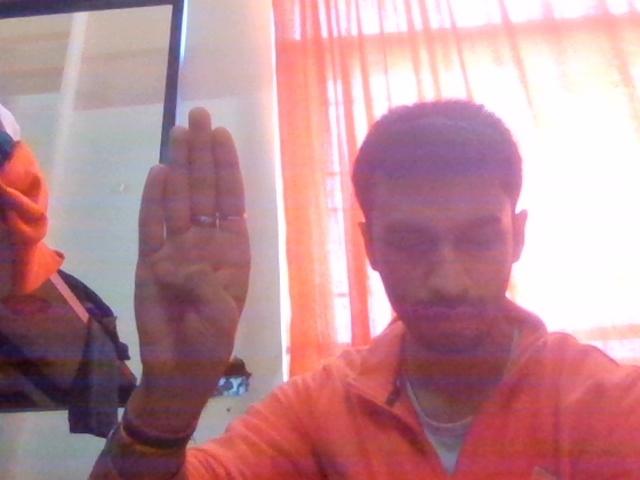B: (114, 107, 280, 411)
